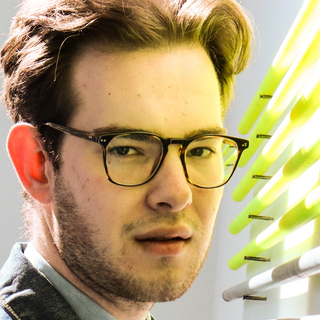eye: (109, 140, 147, 164), (180, 143, 216, 161)
